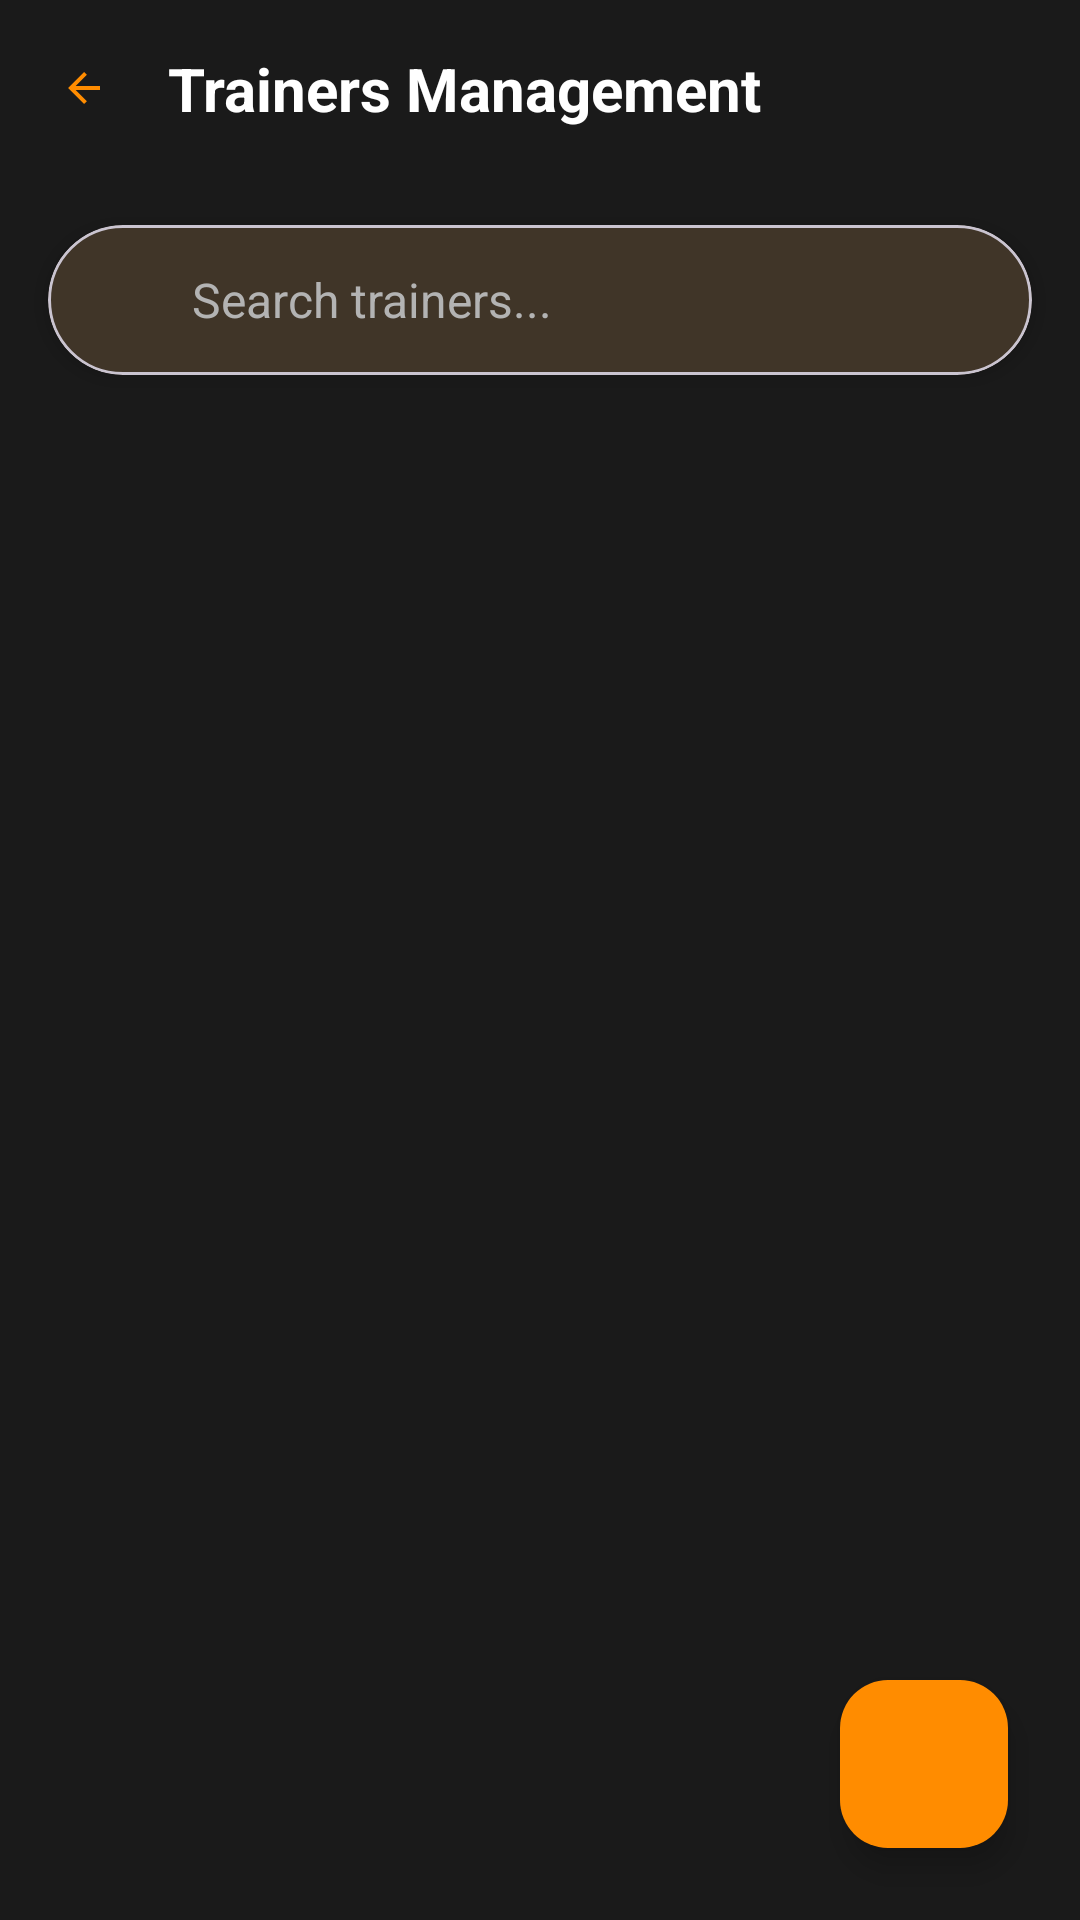

Where icons sit on this 1080 x 1920 app screen, as {"left": x1, "top": y1, "right": x2, "bottom": y2}:
Back Button: {"left": 68, "top": 72, "right": 100, "bottom": 104}
